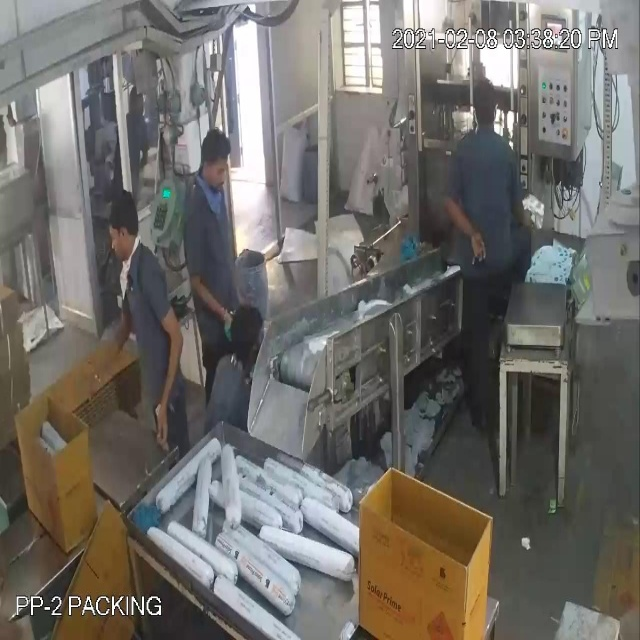Sin_guantes: (141, 279, 196, 459), (440, 186, 493, 274)
